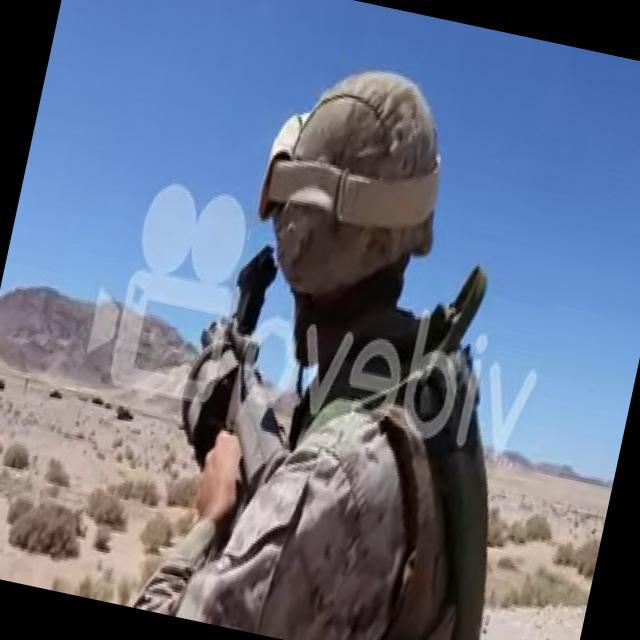rocket: (162, 240, 332, 508)
